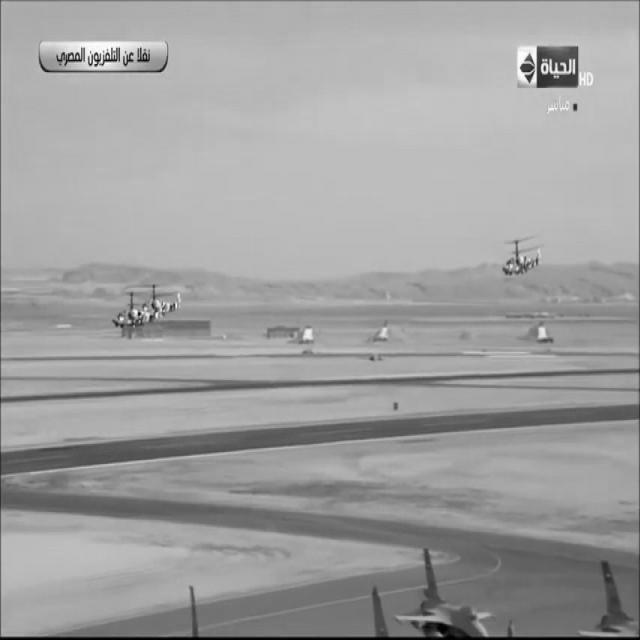helikopter: (109, 261, 208, 367), (499, 208, 569, 304)
